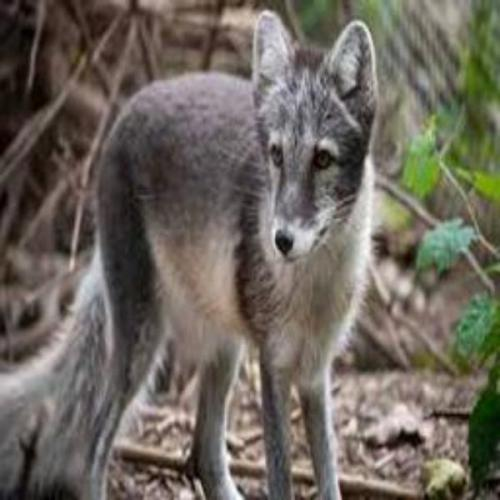arctic_fox-endangered: (0, 11, 381, 500)
